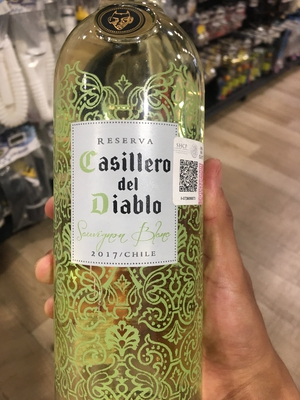casillero del diablo sauvignon blanc: (50, 2, 203, 400)
